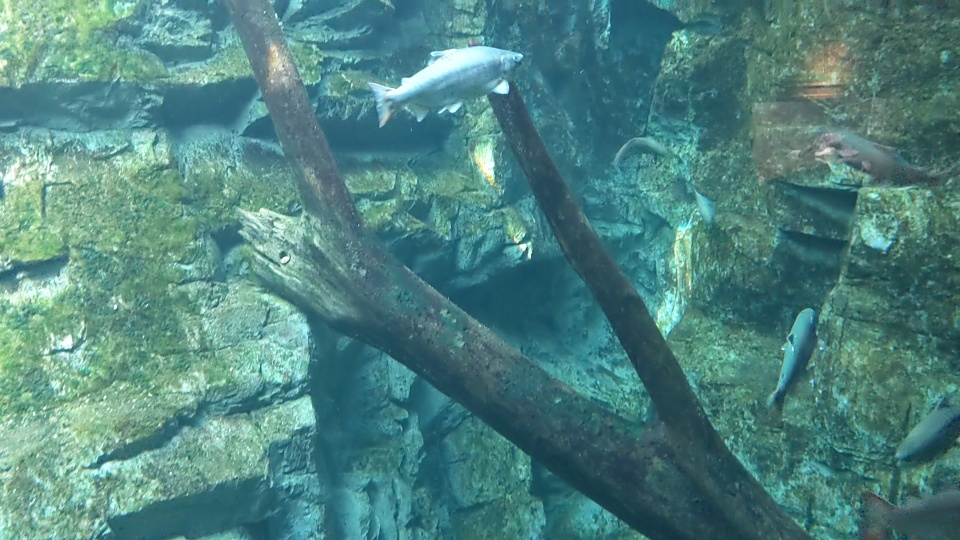Fish: (368, 41, 535, 123), (821, 133, 960, 202), (889, 386, 960, 466), (859, 487, 960, 540), (768, 303, 810, 409), (607, 137, 663, 173), (845, 210, 891, 250), (685, 180, 715, 228)
